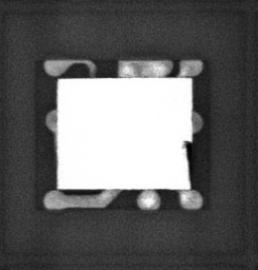DIE_BROKEN: (183, 139, 195, 191)
